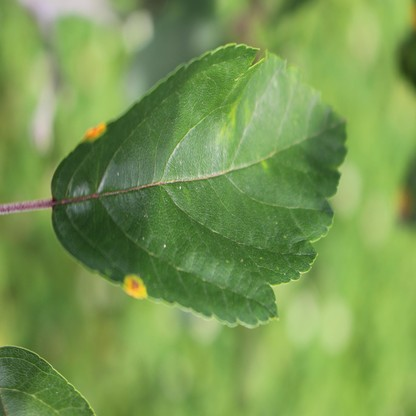rust: (123, 273, 147, 299), (84, 123, 105, 140)
